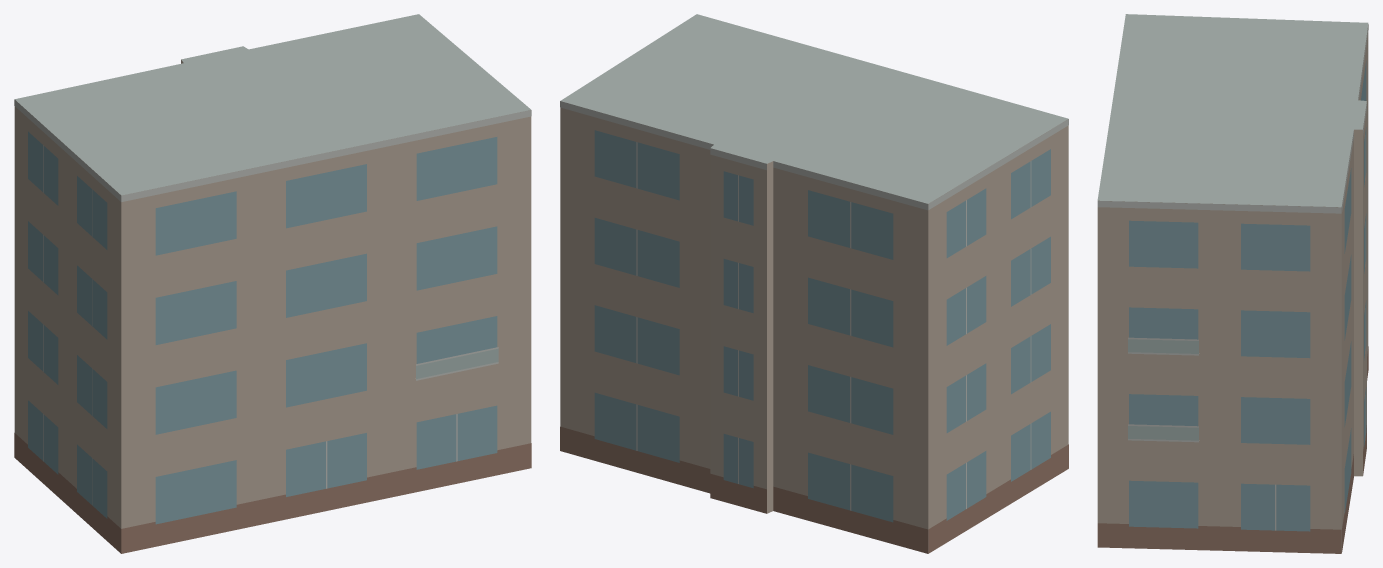
File: survey-upis-32755386.glb
3 views of the same model, side by side, from view 1: azimuth 30°, elevation 25°; view 2: azimuth 150°, elevation 25°; view 3: azimuth 270°, elevation 25° (orthographic). The views are drawn at different scales.
Parts seen in each view (by area): view 1: survey-upis-32755386.tmp; view 2: survey-upis-32755386.tmp; view 3: survey-upis-32755386.tmp.
Part boxes in pixels (x1,y1,x2,y2): survey-upis-32755386.tmp: (14, 14, 531, 553); survey-upis-32755386.tmp: (560, 14, 1068, 553); survey-upis-32755386.tmp: (1097, 14, 1368, 553).
Bounding box in the file's own units: 15.73 × 13.15 × 9.33.
